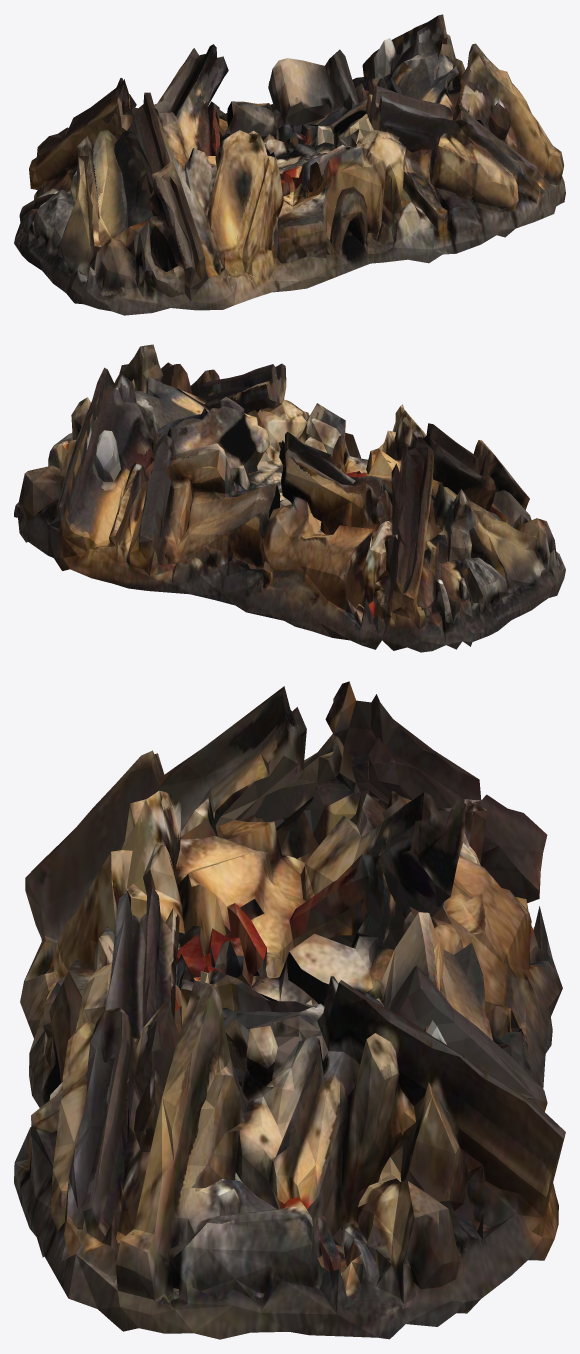
Rendered from t-light-rubble.glb.
3 views of the same model, one above another, from view 1: azimuth 30°, elevation 25°; view 2: azimuth 150°, elevation 25°; view 3: azimuth 270°, elevation 25° (orthographic). The views are drawn at different scales.
Visible parts, largest first — view 1: d.obj; view 2: d.obj; view 3: d.obj.
Boxes of the visible parts, <box> form: d.obj: <box>14,14,565,315</box>; d.obj: <box>14,344,565,652</box>; d.obj: <box>14,681,565,1339</box>.
Size of the model in its own units: 3 by 1 by 1.6.
Materials: 1 (1 with a texture image).
